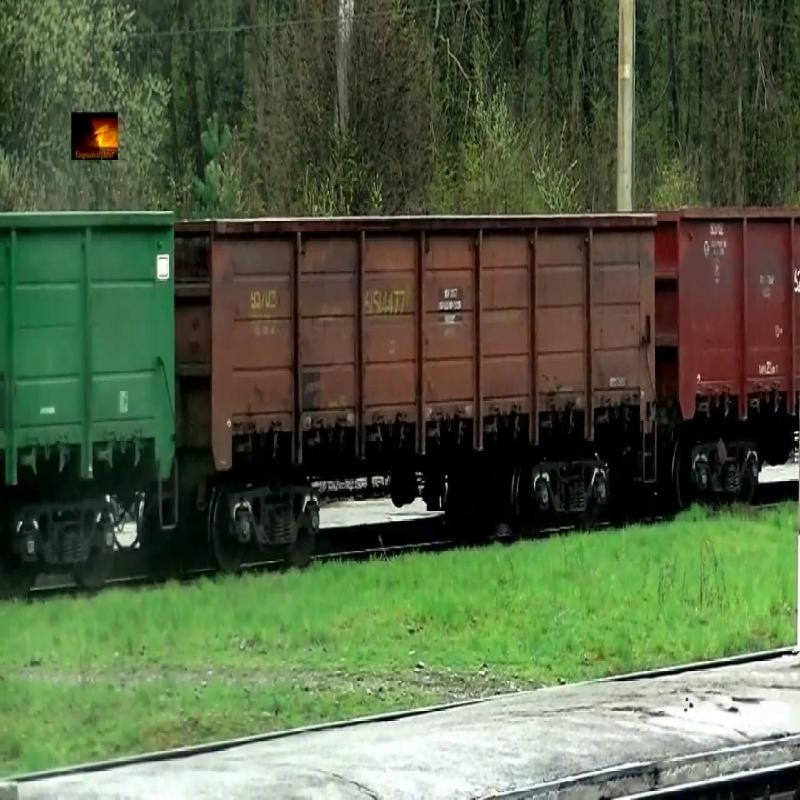train: (177, 208, 659, 477), (1, 210, 176, 494), (658, 209, 798, 426)
